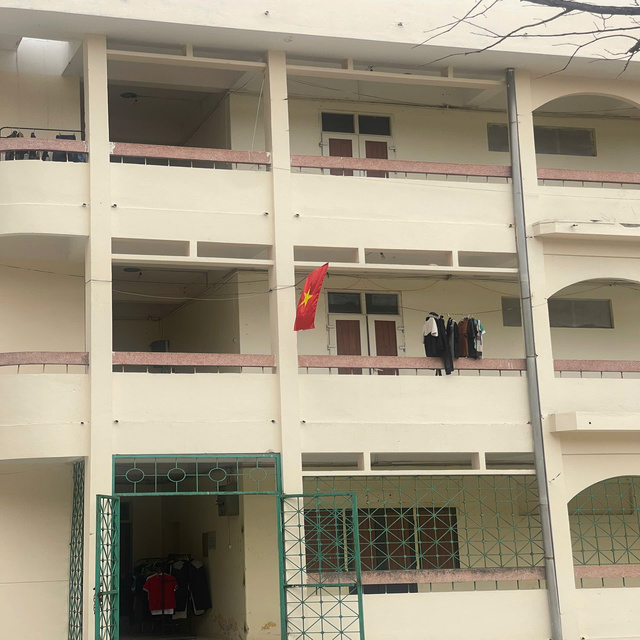laco: (286, 261, 335, 334)
